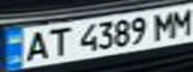3: (97, 18, 118, 51)
4: (75, 20, 100, 53)
8: (112, 16, 133, 47)
9: (127, 15, 154, 45)
A: (18, 28, 54, 63)
M: (148, 9, 181, 39), (166, 4, 193, 37)
T: (42, 25, 72, 58)
